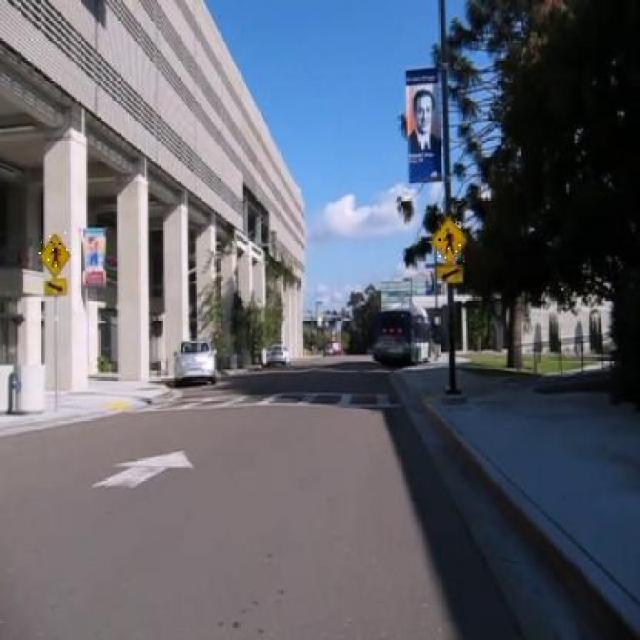pedestrianCrossing: (431, 216, 468, 266), (39, 232, 71, 279)
